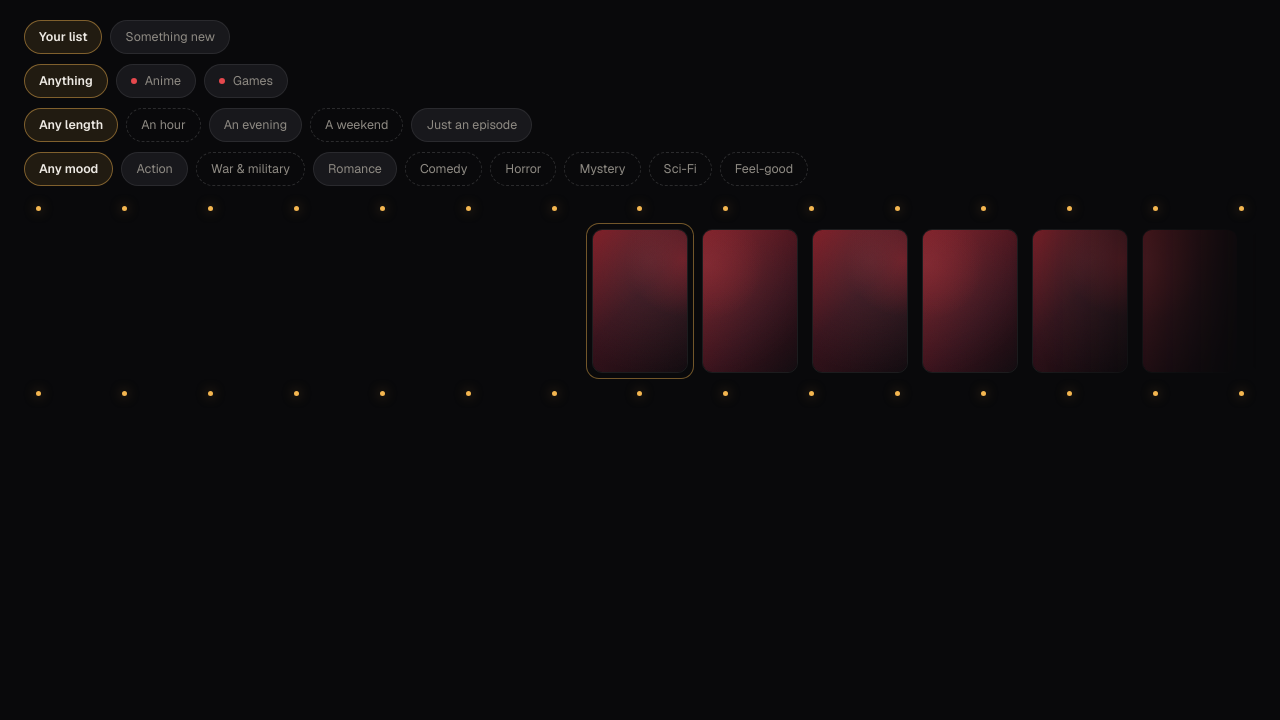
Scenario: SurpriseContent › spins only through what fits the time and the mood, and says why and how long
Click the button "An evening" at (255, 125), box [209, 108, 302, 142]
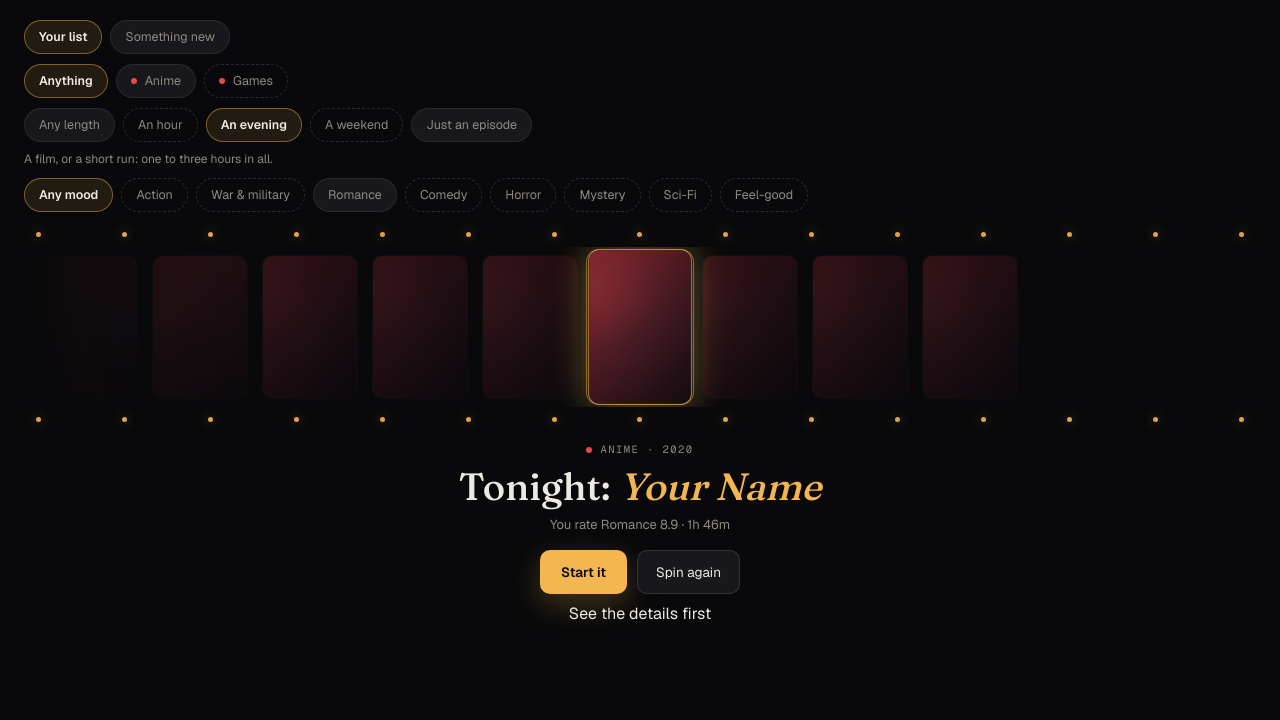
Expected: the text "A film, or a short run: one to three hours in all." is shown, [24, 151, 273, 167]
Expected: the text "Your Name" is shown, [619, 463, 821, 510]
Expected: the text "You rate Romance 8.9 · 1h 46m" is shown, [550, 515, 730, 534]
